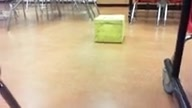cube: (95, 15, 123, 43)
